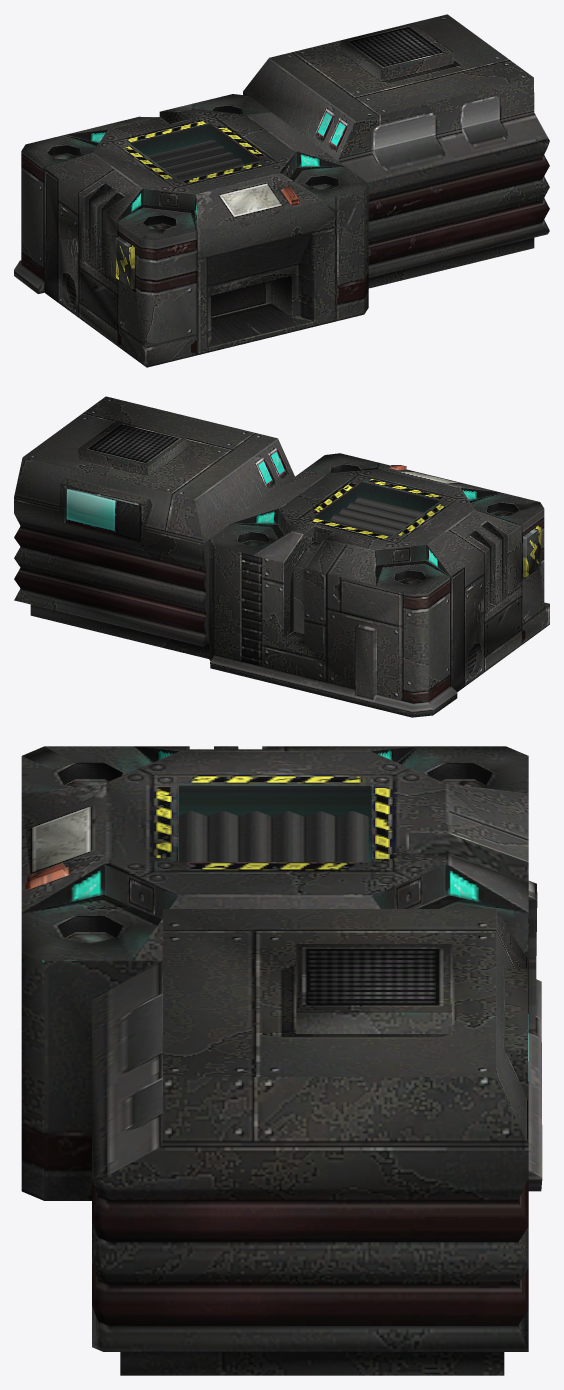
File: generator1on.glb
The picture shows the model from 3 angles, top to bottom: view 1: azimuth 30°, elevation 25°; view 2: azimuth 150°, elevation 25°; view 3: azimuth 270°, elevation 25°; orthographic projection. The views are drawn at different scales.
Visible parts, largest first — view 1: Box01; view 2: Box01; view 3: Box01.
Boxes of the visible parts, x1,y1,x2,y2 form: Box01: (14, 14, 549, 367); Box01: (14, 396, 549, 717); Box01: (21, 746, 542, 1375).
Bounding box in the file's own units: 202 × 76.63 × 110.
Materials: 1 (1 with a texture image).
